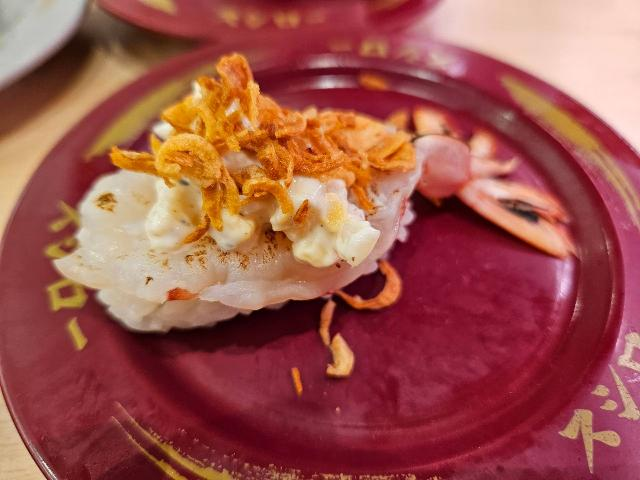janred: (23, 83, 631, 480), (102, 0, 489, 44)
janwhite: (0, 0, 88, 72)
